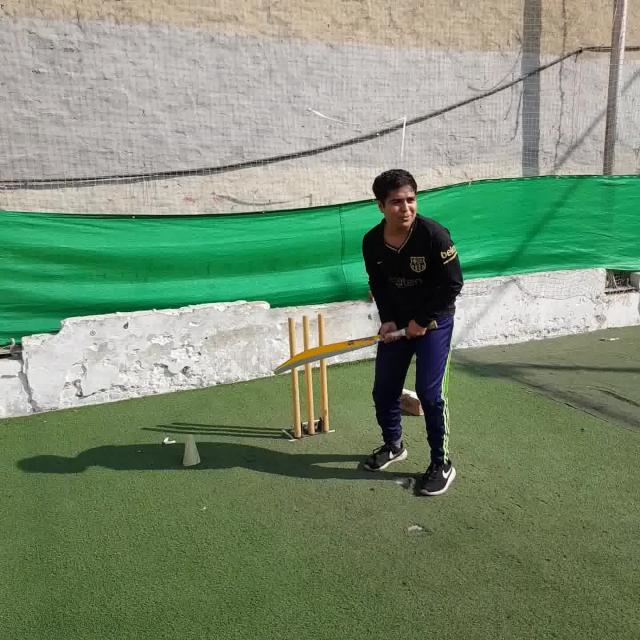bat: (273, 321, 441, 377)
